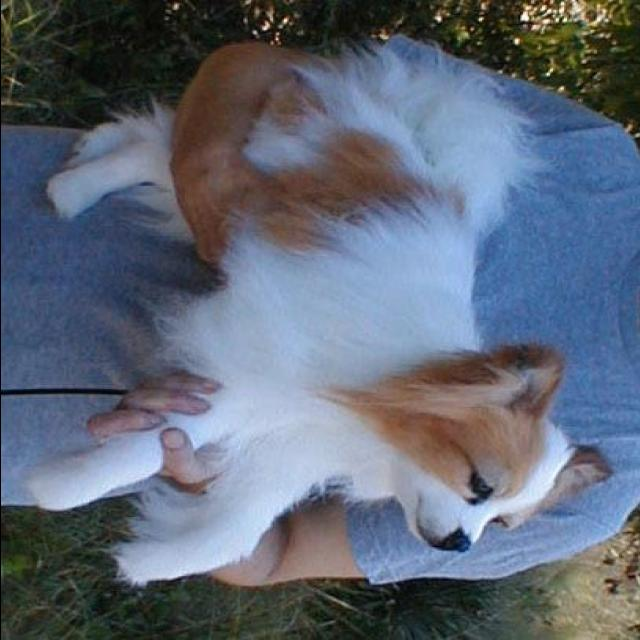papillon: (28, 45, 612, 582)
